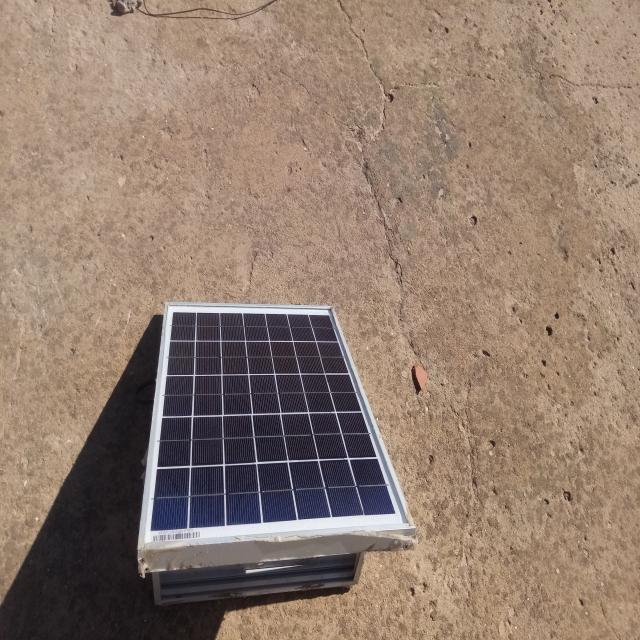no faulty: (140, 304, 414, 546)
